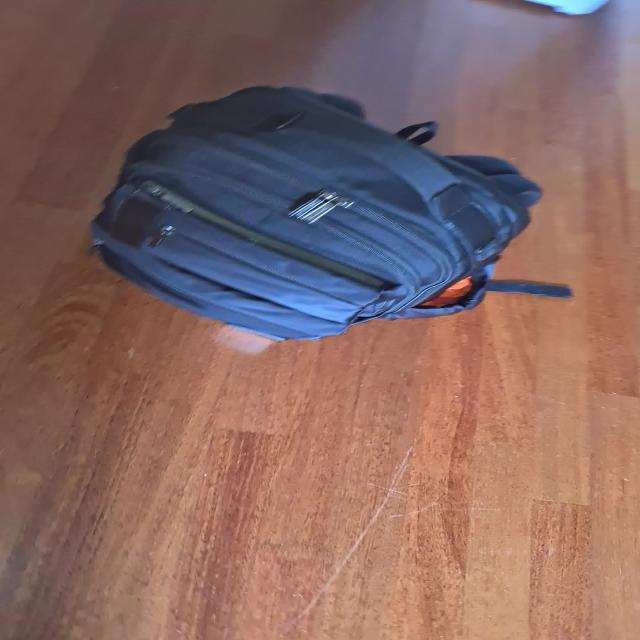backpack: (71, 76, 548, 342)
